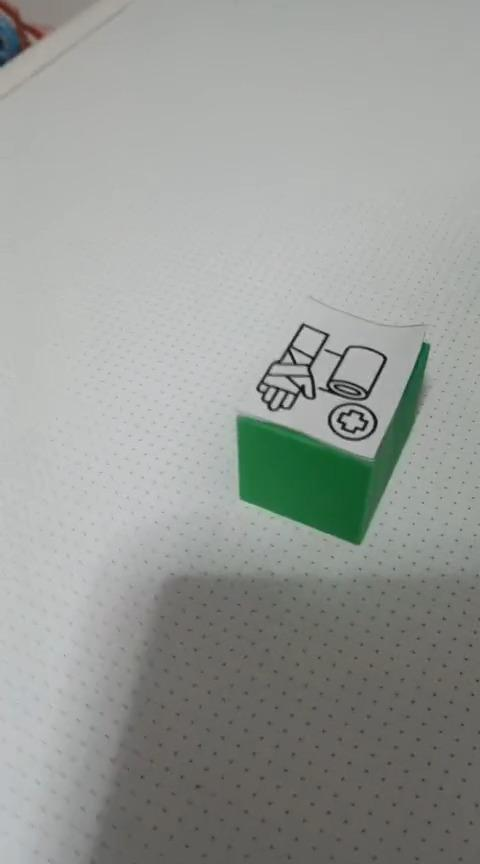Bandages: (234, 294, 430, 545)
